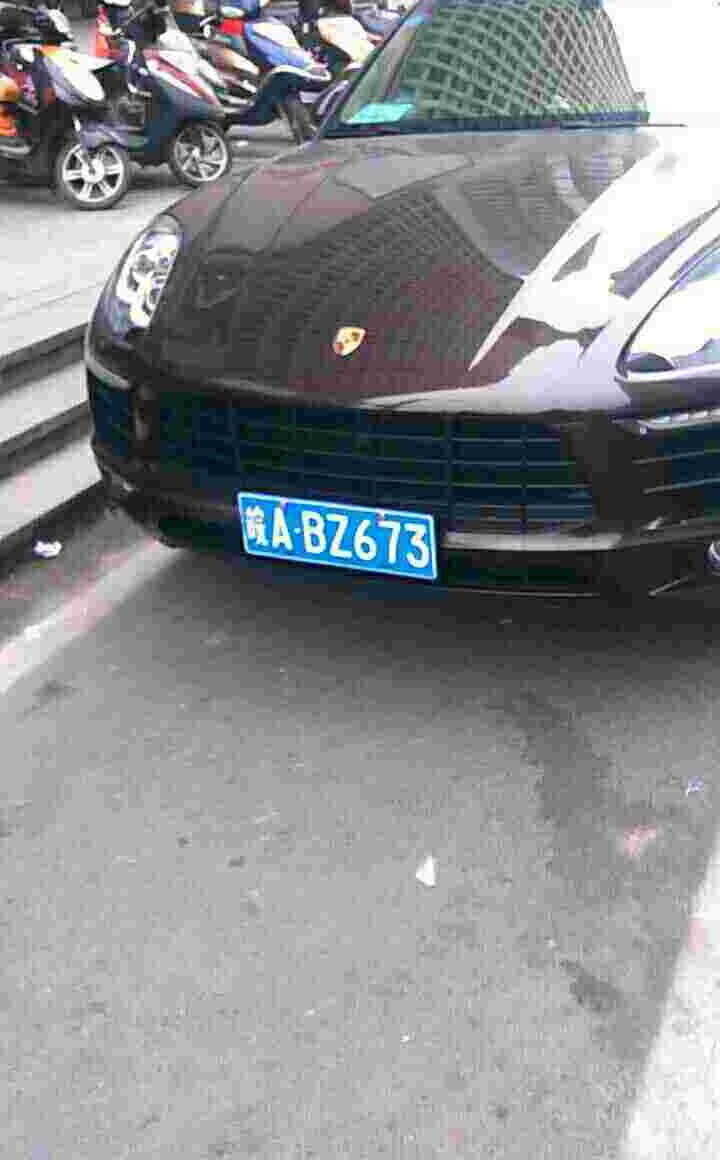plate: (236, 488, 441, 582)
